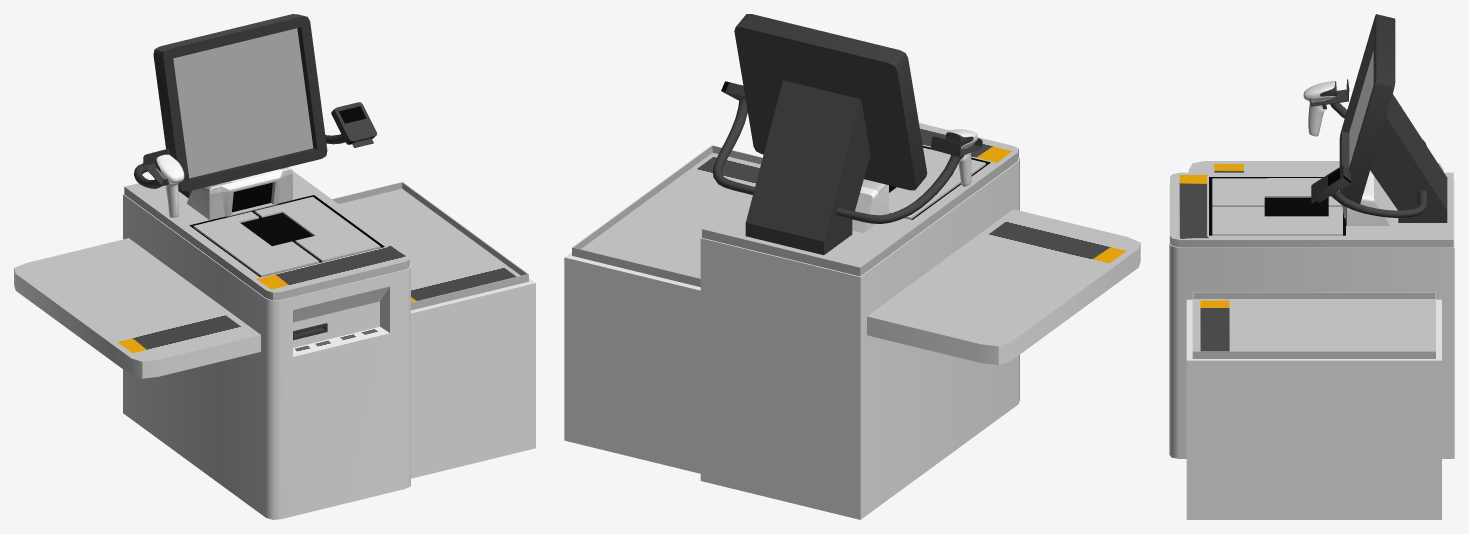
File: MARCKET_KIOSK.fbx
3 views of the same model, side by side, from view 1: azimuth 30°, elevation 25°; view 2: azimuth 150°, elevation 25°; view 3: azimuth 270°, elevation 25° (orthographic). The views are drawn at different scales.
Visible parts, largest first — view 1: kiosk004, Object014, scanner-FINAL003; view 2: kiosk004, scanner-FINAL003; view 3: kiosk004, scanner-FINAL003, Object014.
Part boxes in pixels (<box>): kiosk004: <box>14,14,535,519</box>; Object014: <box>173,28,313,178</box>; scanner-FINAL003: <box>155,154,184,217</box>; kiosk004: <box>564,14,1140,519</box>; scanner-FINAL003: <box>945,129,977,186</box>; kiosk004: <box>1169,14,1454,519</box>; scanner-FINAL003: <box>1303,80,1336,136</box>; Object014: <box>1349,51,1373,166</box>.
Bounding box in the file's own units: 2186 × 2077 × 1419.
